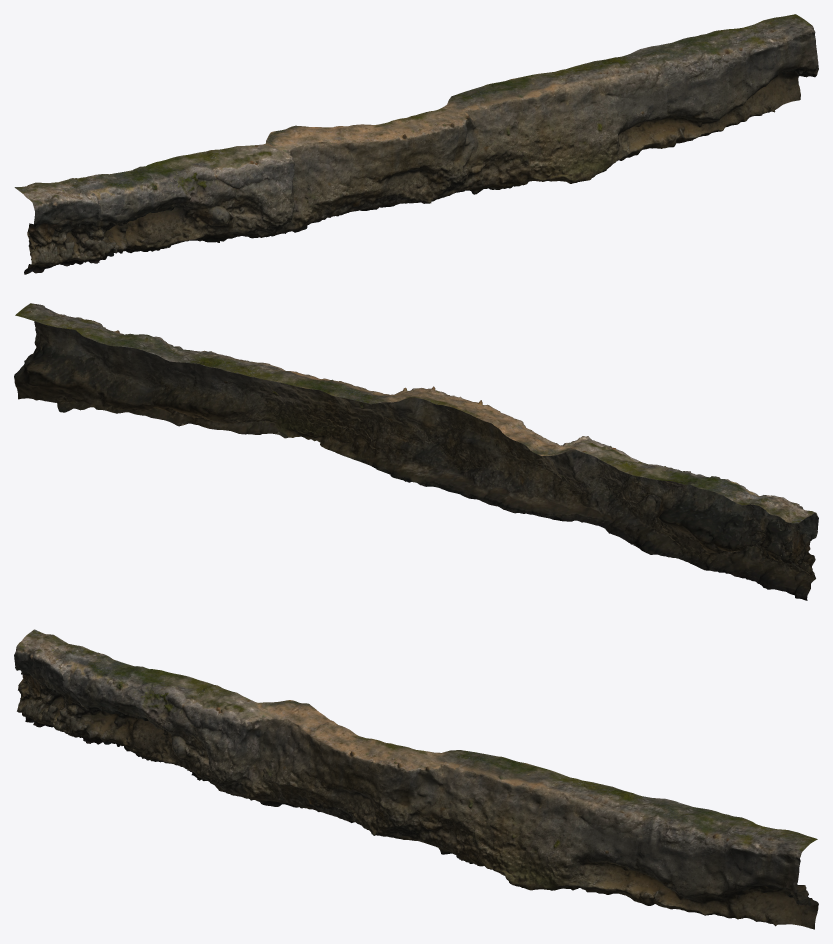
Rendered from coastal_cliff_01.glb.
3 renders of one model, top to bottom at view 1: azimuth 30°, elevation 25°; view 2: azimuth 150°, elevation 25°; view 3: azimuth 330°, elevation 25°, orthographic. The views are drawn at different scales.
Parts seen in each view (by area): view 1: coastal_cliff_01_LOD2; view 2: coastal_cliff_01_LOD2; view 3: coastal_cliff_01_LOD2.
Boxes of the visible parts, <box> form: coastal_cliff_01_LOD2: <box>14,14,818,274</box>; coastal_cliff_01_LOD2: <box>14,303,818,600</box>; coastal_cliff_01_LOD2: <box>14,629,818,929</box>.
Size of the model in its own units: 91.98 by 10.31 by 10.96.
1 material, 1 textured.
